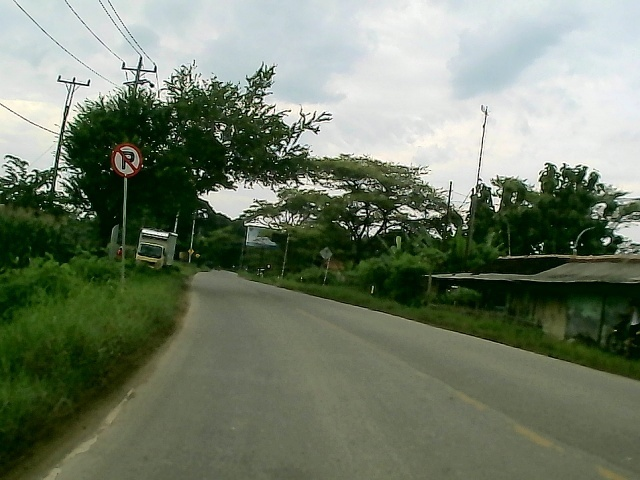Dilarang parkir: (110, 143, 142, 179)
